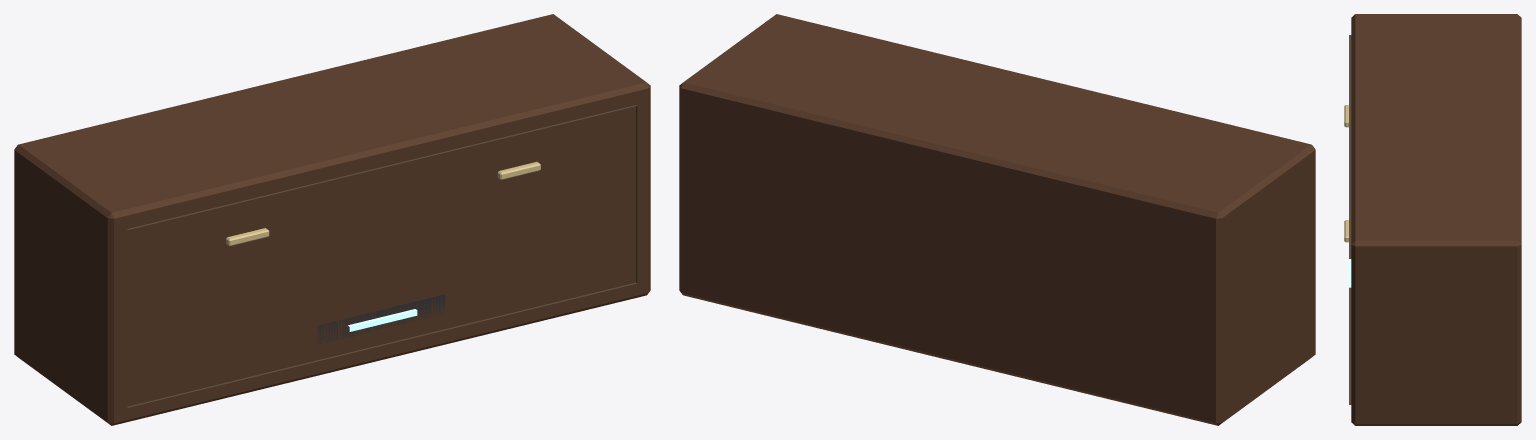
The model's file is tv_stand.glb.
The picture shows the model from 3 angles, left to right: view 1: azimuth 30°, elevation 25°; view 2: azimuth 150°, elevation 25°; view 3: azimuth 270°, elevation 25°; orthographic projection. The views are drawn at different scales.
Visible parts, largest first — view 1: tv_stand; view 2: tv_stand; view 3: tv_stand.
Boxes of the visible parts, left/top/right/bottom form: tv_stand: left=14, top=14, right=650, bottom=425; tv_stand: left=679, top=14, right=1315, bottom=425; tv_stand: left=1344, top=14, right=1521, bottom=425.
Size of the model in its own units: 1.6 by 0.6 by 0.52.
